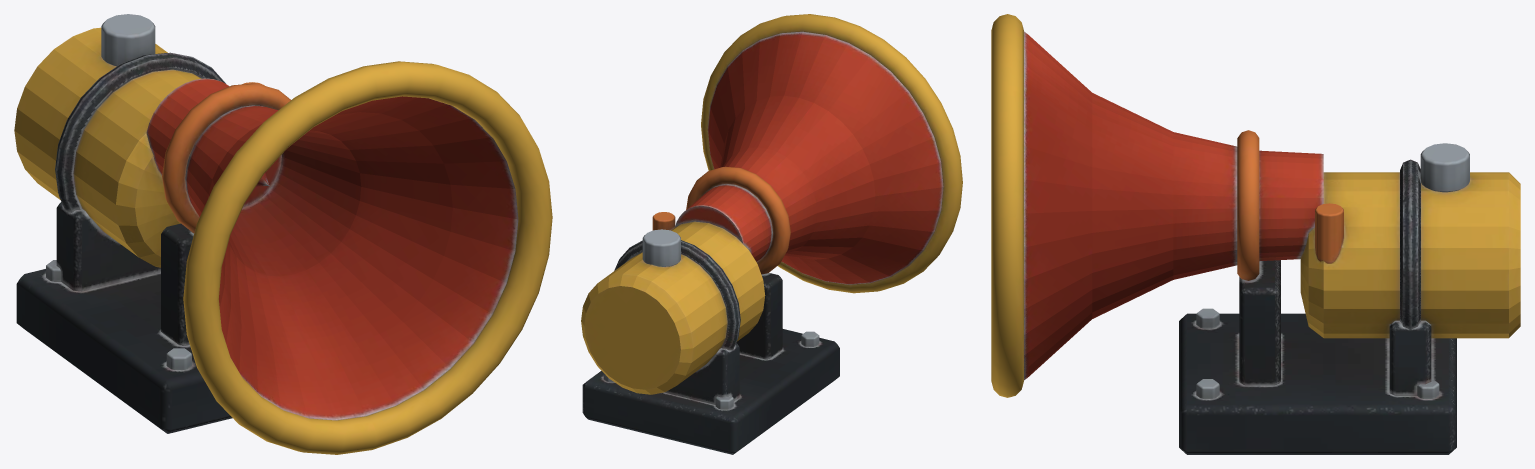
File: horn-v001.glb
3 views of the same model, side by side, from view 1: azimuth 30°, elevation 25°; view 2: azimuth 150°, elevation 25°; view 3: azimuth 270°, elevation 25° (orthographic). The views are drawn at different scales.
Parts seen in each view (by area): view 1: Horn; view 2: Horn; view 3: Horn.
Boxes of the visible parts, x1,y1,x2,y2 form: Horn: [14, 14, 552, 454]; Horn: [581, 14, 962, 454]; Horn: [991, 14, 1520, 454].
Bounding box in the file's own units: 0.332 × 0.36 × 0.457.
Materials: 1 (1 with a texture image).
